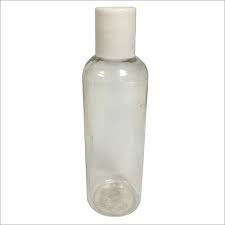available: (76, 7, 151, 220)
